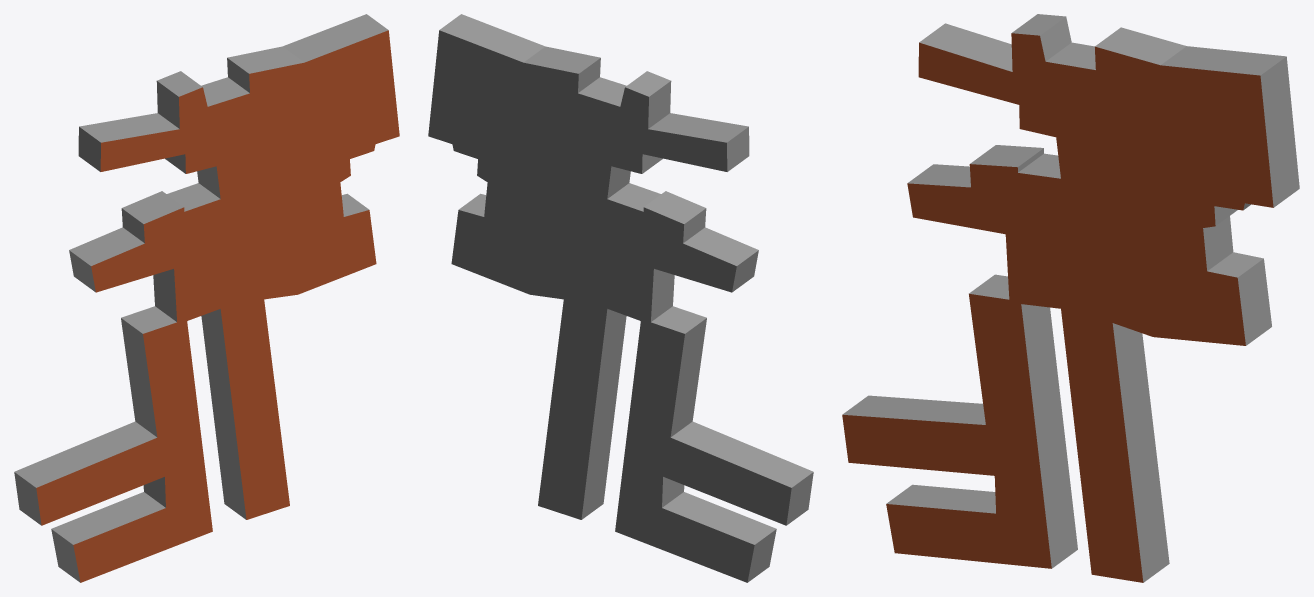
Rendered from construction_1810_assumed_A_Casa_h6m.obj.
3 renders of one model, left to right at view 1: azimuth 30°, elevation 25°; view 2: azimuth 150°, elevation 25°; view 3: azimuth 330°, elevation 25°, orthographic. The views are drawn at different scales.
Visible parts, largest first — view 1: construction_1810_assumed_A_Casa; view 2: construction_1810_assumed_A_Casa; view 3: construction_1810_assumed_A_Casa.
Part boxes in pixels (x1,y1,x2,y2): construction_1810_assumed_A_Casa: [14, 14, 399, 582]; construction_1810_assumed_A_Casa: [428, 14, 813, 582]; construction_1810_assumed_A_Casa: [842, 14, 1299, 582].
Bounding box in the file's own units: 56.97 × 71.52 × 6.
